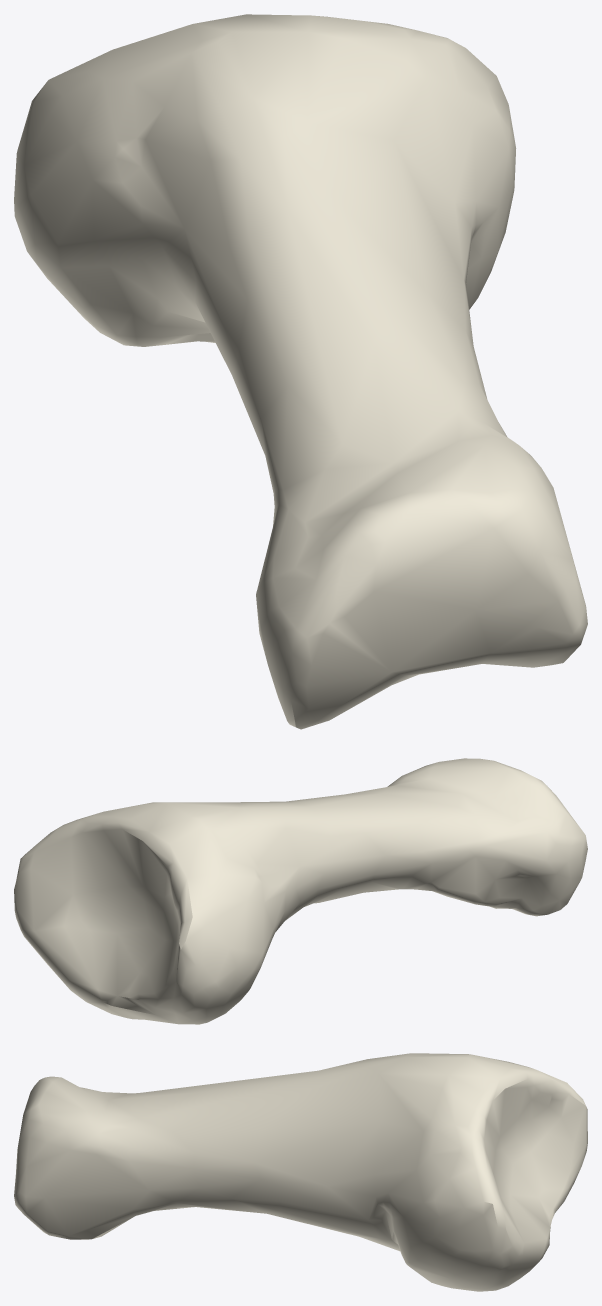
The model's file is fma32640.glb.
The picture shows the model from 3 angles, top to bottom: view 1: azimuth 30°, elevation 25°; view 2: azimuth 150°, elevation 25°; view 3: azimuth 270°, elevation 25°; orthographic projection. The views are drawn at different scales.
Visible parts, largest first — view 1: FMA32640; view 2: FMA32640; view 3: FMA32640.
Boxes of the visible parts, left/top/right/bottom form: FMA32640: left=14, top=14, right=587, bottom=729; FMA32640: left=14, top=758, right=587, bottom=1024; FMA32640: left=14, top=1053, right=587, bottom=1291.
Size of the model in its own units: 0.0178 by 0.0101 by 0.026.
